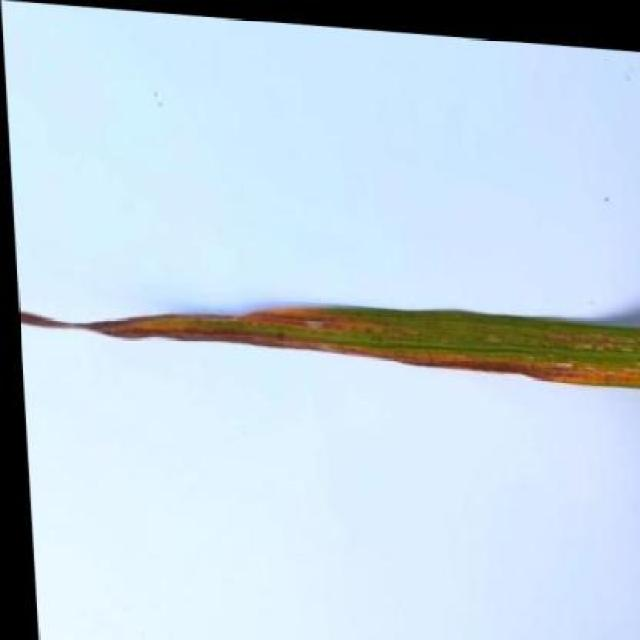Rice False Smut: (14, 262, 640, 387)
